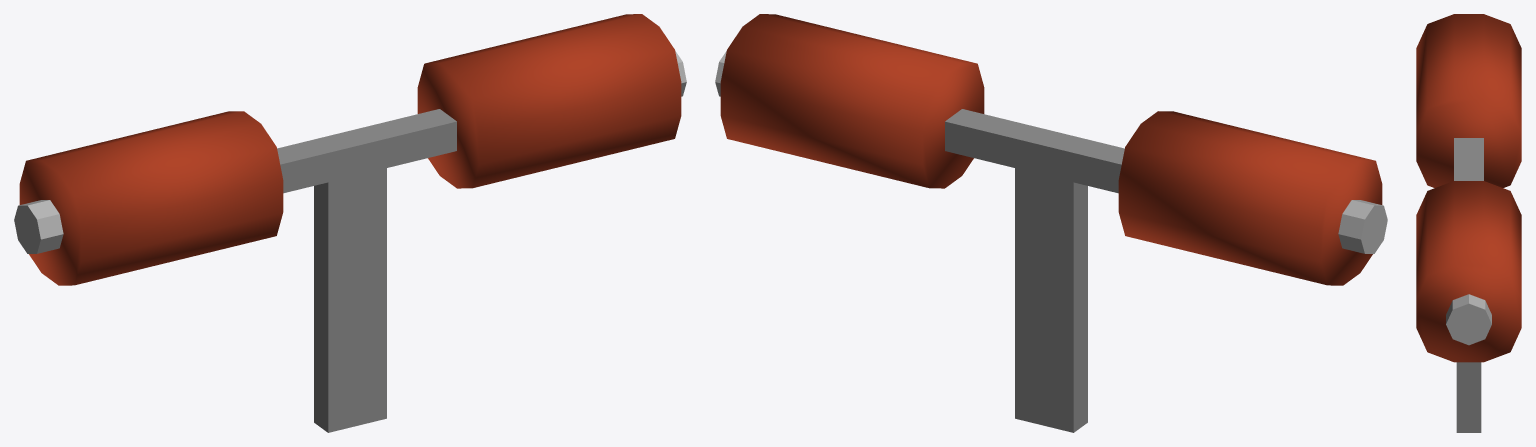
File: emachine_ac_2.glb
3 views of the same model, side by side, from view 1: azimuth 30°, elevation 25°; view 2: azimuth 150°, elevation 25°; view 3: azimuth 270°, elevation 25° (orthographic). The views are drawn at different scales.
Visible parts, largest first — view 1: E_Machine_Ac_2; view 2: E_Machine_Ac_2; view 3: E_Machine_Ac_2.
Boxes of the visible parts, x1,y1,x2,y2 form: E_Machine_Ac_2: [14, 14, 686, 432]; E_Machine_Ac_2: [715, 14, 1387, 432]; E_Machine_Ac_2: [1416, 14, 1521, 432].
Bounding box in the file's own units: 0.6949 × 0.3361 × 0.1144.
1 material, 1 textured.
